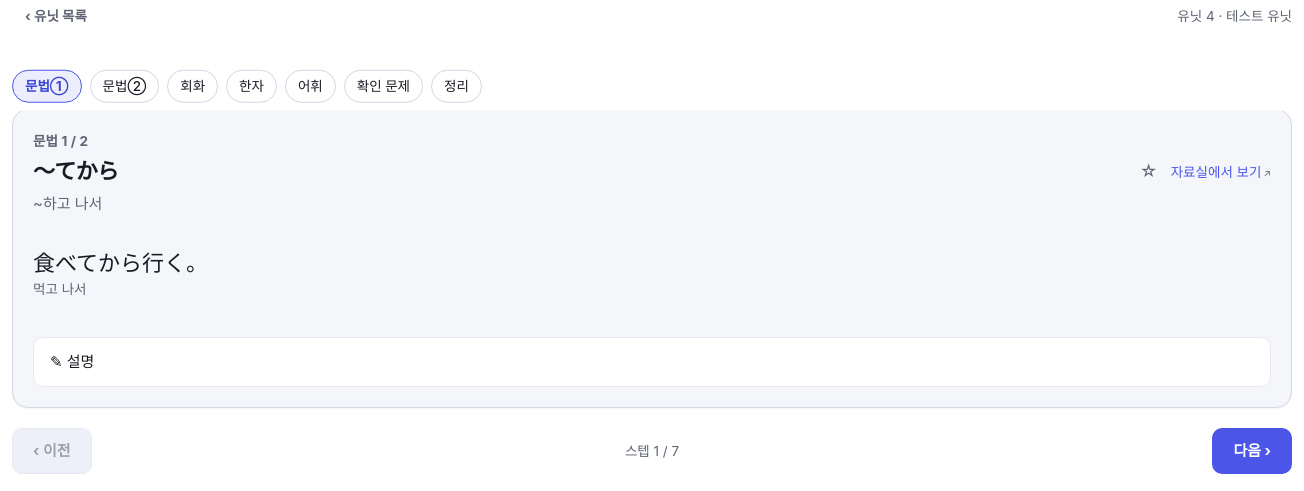
Test: 유닛 확인 문제의 오답 풀 (QA 높음 3) › 문법 오답을 코스 밖 풀에서 채워 10문항을 만든다
Click the button "확인 문제".
click(383, 86)  # box [344, 70, 423, 102]
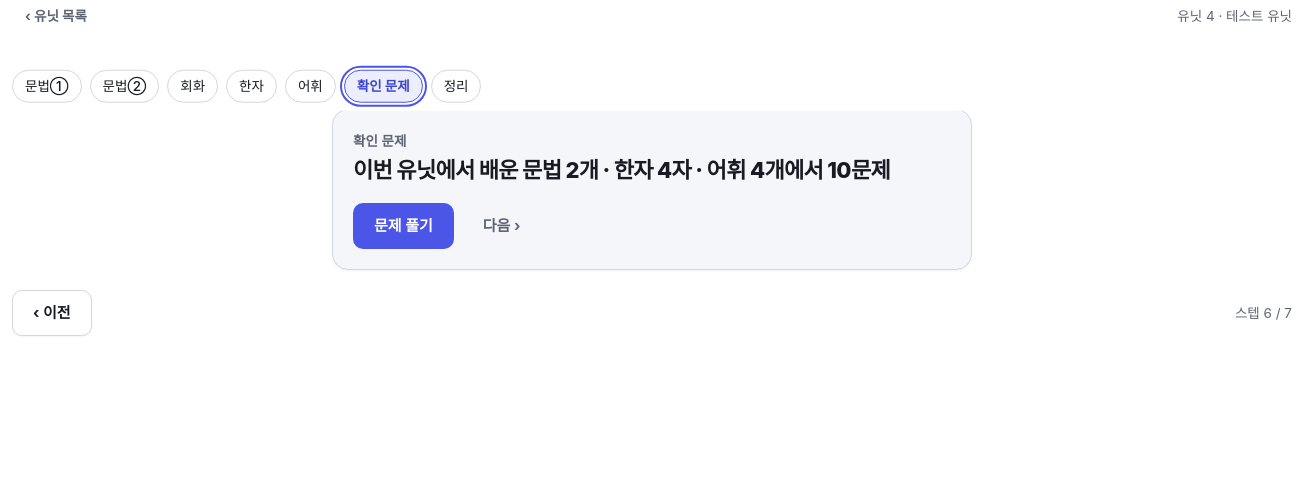
Now the heading "이번 유닛에서 배운 문법 2개 · 한자 4자 · 어휘 4개에서 10문제" is shown, box [353, 156, 951, 186]
